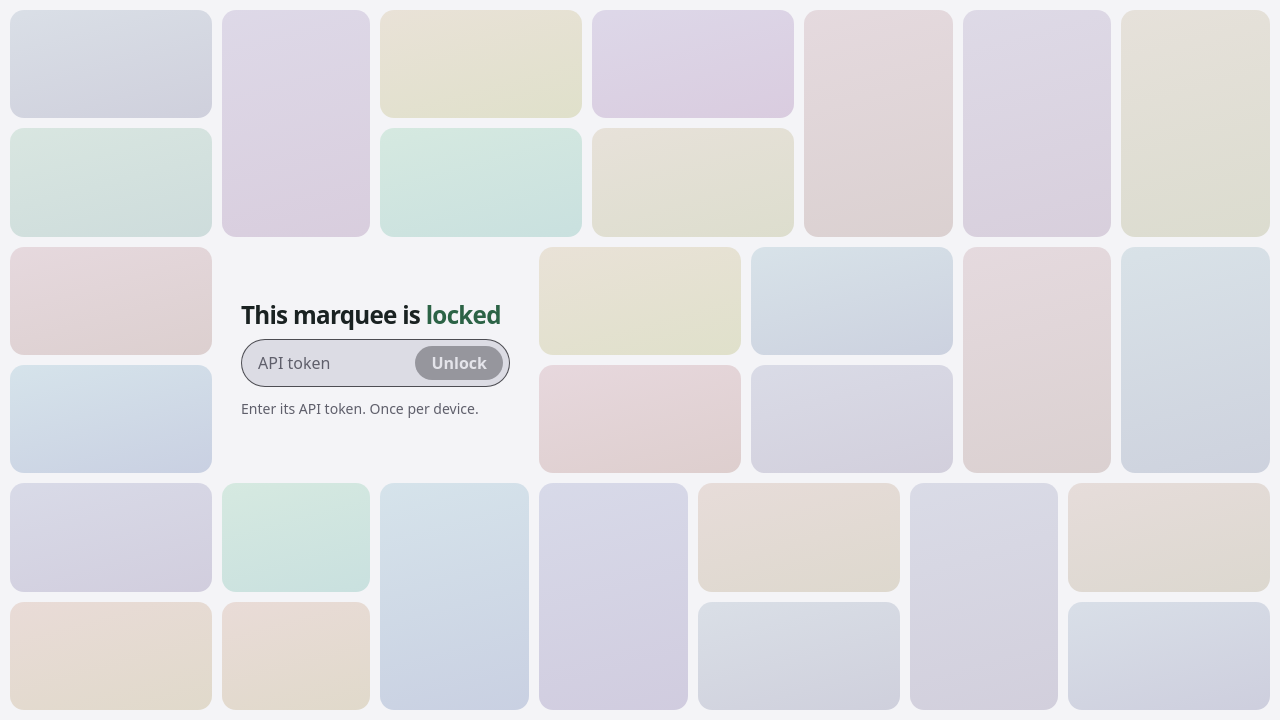
a right token holds the lock until marquee accepts it, then hands over, then leaves nothing behind
Later steps or results of the test are not shown.
Type "s3cret-token" into the password field labelled "API token" at (333, 363), box [258, 340, 408, 386]
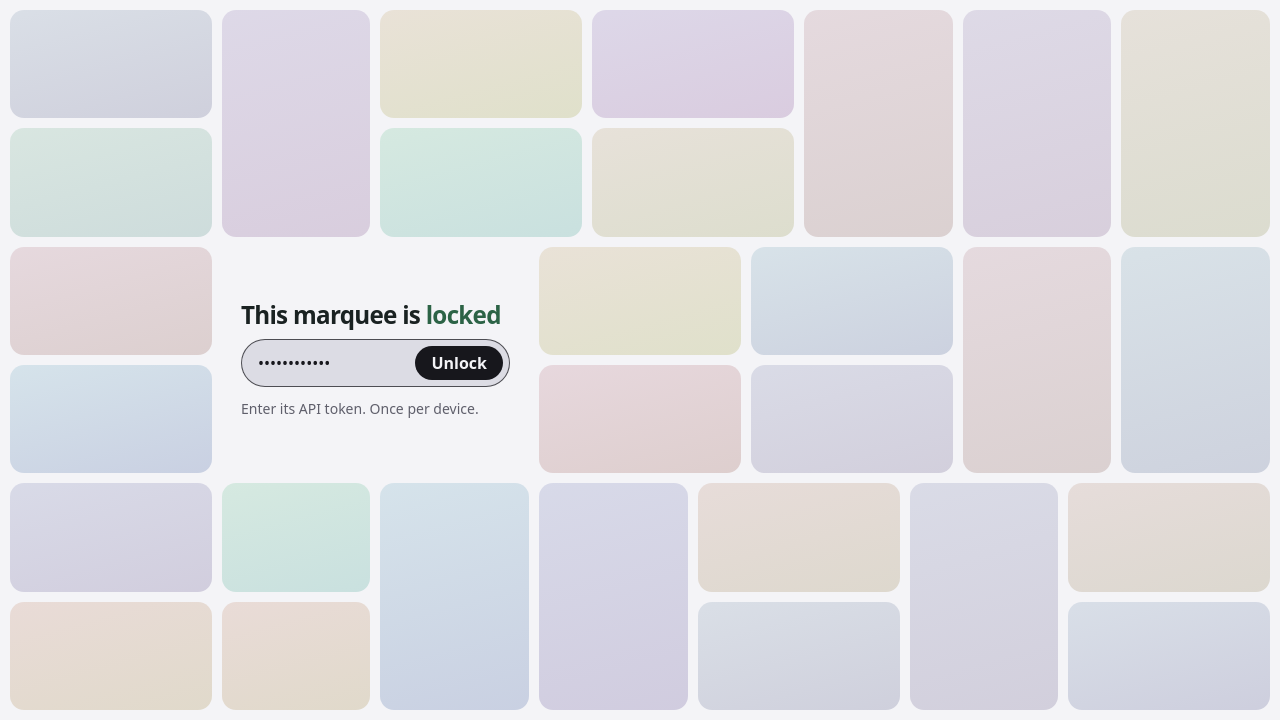
Click the button "Unlock" at (459, 363), box [416, 346, 503, 380]
Wait 1700 ms
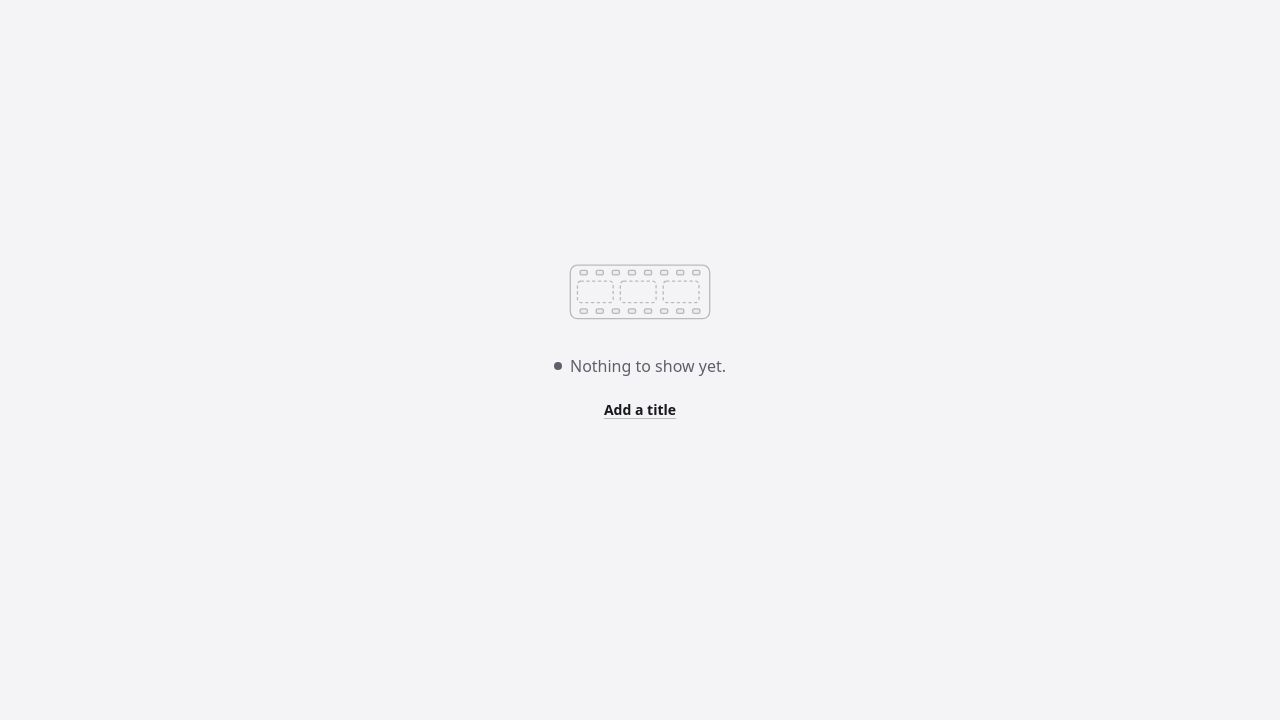
Now the element with class "utile" is gone
